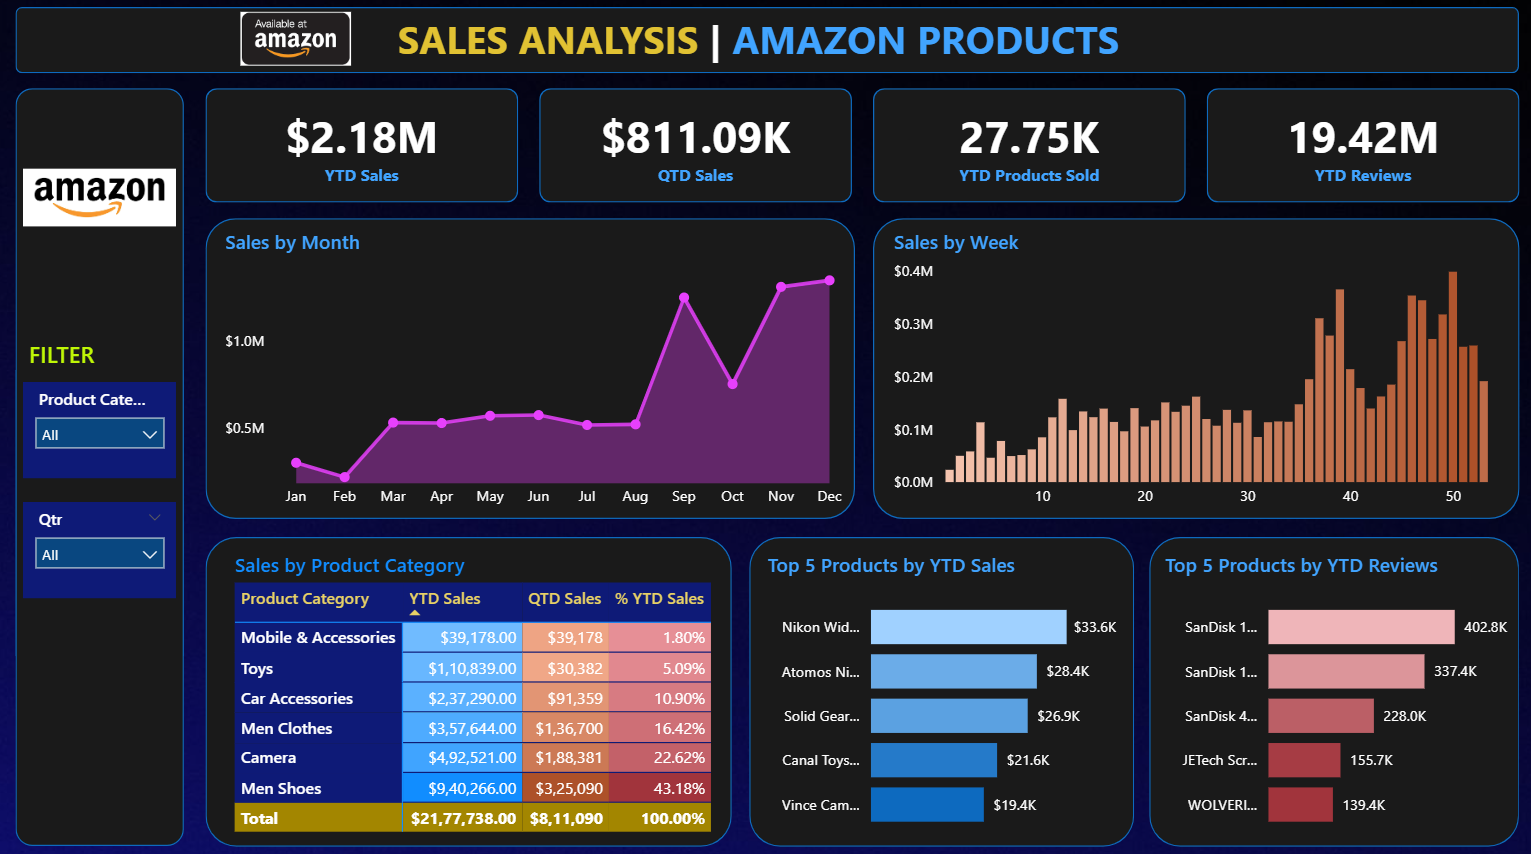

The page's visual inventory and layout, read from the dashboard file:
{"tool":"powerbi","page":{"name":"Dashboard","canvas":[1280,720],"ordinal":0},"visuals":[{"type":"shape","box":[15,8.8,1250,55],"z":0},{"type":"shape","box":[172.5,76.2,260,95],"z":0,"group":"g1"},{"type":"textbox","box":[327.5,8.8,787.5,55],"z":1000},{"type":"cardVisual","fields":{"Data":["Amazon_Data.YTD Sales"]},"box":[172.5,76.2,260,95],"z":1000,"group":"g1"},{"type":"shape","box":[15,76.2,140,630],"z":2000},{"type":"shape","box":[450,76.2,260,95],"z":2000,"group":"g1"},{"type":"group","id":"g1","title":"Group 1","box":[172.5,76.2,1092.5,95],"z":3000},{"type":"cardVisual","fields":{"Data":["Amazon_Data.QTD Sales"]},"box":[450,76.2,260,95],"z":3000,"group":"g1"},{"type":"shape","box":[727.5,76.2,260,95],"z":4000,"group":"g1"},{"type":"shape","box":[172.5,183.8,540,250],"z":4000},{"type":"shape","box":[1005,76.2,260,95],"z":5000,"group":"g1"},{"type":"areaChart","title":"Sales by Month","fields":{"Category":["Date Table.Month Name"],"Y":["Sum(Amazon_Data.Price(Dollar))"]},"box":[183.8,192.5,528.8,241.2],"z":5000},{"type":"cardVisual","fields":{"Data":["Amazon_Data.YTD Products Sold"]},"box":[727.5,76.2,260,95],"z":6000,"group":"g1"},{"type":"shape","box":[727.5,183.8,537.5,250],"z":6000},{"type":"cardVisual","fields":{"Data":["Amazon_Data.YTD Reviews"]},"box":[1005,76.2,260,95],"z":7000,"group":"g1"},{"type":"columnChart","title":"Sales by Week","fields":{"Category":["Date Table.Week Number"],"Y":["Sum(Amazon_Data.Price(Dollar))"]},"box":[740,192.5,525,241.2],"z":7000},{"type":"shape","box":[172.5,448.8,437.5,257.5],"z":8000},{"type":"pivotTable","title":"    Sales by Product Category","fields":{"Rows":["Amazon_Data.Product Category"],"Values":["Amazon_Data.YTD Sales1","Amazon_Data.QTD Sales","Amazon_Data.YTD Sales"]},"box":[183.8,460,428.8,246.2],"z":9000},{"type":"shape","box":[625,448.8,320,257.5],"z":9001},{"type":"shape","box":[957.5,448.8,307.5,257.5],"z":9002},{"type":"barChart","title":"Top 5 Products by YTD Sales","fields":{"Category":["Amazon_Data.Product Description"],"Y":["Amazon_Data.YTD Sales"]},"box":[635,460,300,246.2],"z":9003},{"type":"barChart","title":"Top 5 Products by YTD Reviews","fields":{"Category":["Amazon_Data.Product Description"],"Y":["Amazon_Data.YTD Reviews"]},"box":[965,460,300,246.2],"z":9004},{"type":"slicer","fields":{"Values":["Amazon_Data.Product Category"]},"box":[21.2,320,127.5,80],"z":9005},{"type":"slicer","fields":{"Values":["Date Table.Qtr"]},"box":[21.2,420,127.5,80],"z":9006},{"type":"image","box":[21.2,98.8,127.5,136.2],"z":9007},{"type":"textbox","box":[21.2,280,72.5,40],"z":9008},{"type":"image","box":[183.8,8.8,127.5,52.5],"z":9010}]}

Visuals, with their boxes in screenshot pixels (x1, y1, x2, y2), scaled from the page's 1280x720 canvas onto the 1531x854 screenshot:
shape: crop(18, 10, 1513, 76)
shape: crop(206, 90, 517, 203)
textbox: crop(392, 10, 1334, 76)
cardVisual - Amazon_Data.YTD Sales: crop(206, 90, 517, 203)
shape: crop(18, 90, 185, 838)
shape: crop(538, 90, 849, 203)
"Group 1" group: crop(206, 90, 1513, 203)
cardVisual - Amazon_Data.QTD Sales: crop(538, 90, 849, 203)
shape: crop(870, 90, 1181, 203)
shape: crop(206, 218, 852, 515)
shape: crop(1202, 90, 1513, 203)
"Sales by Month" areaChart: crop(220, 228, 852, 514)
cardVisual - Amazon_Data.YTD Products Sold: crop(870, 90, 1181, 203)
shape: crop(870, 218, 1513, 515)
cardVisual - Amazon_Data.YTD Reviews: crop(1202, 90, 1513, 203)
"Sales by Week" columnChart: crop(885, 228, 1513, 514)
shape: crop(206, 532, 730, 838)
"    Sales by Product Category" pivotTable: crop(220, 546, 733, 838)
shape: crop(748, 532, 1130, 838)
shape: crop(1145, 532, 1513, 838)
"Top 5 Products by YTD Sales" barChart: crop(760, 546, 1118, 838)
"Top 5 Products by YTD Reviews" barChart: crop(1154, 546, 1513, 838)
slicer - Amazon_Data.Product Category: crop(25, 380, 178, 474)
slicer - Date Table.Qtr: crop(25, 498, 178, 593)
image: crop(25, 117, 178, 279)
textbox: crop(25, 332, 112, 380)
image: crop(220, 10, 372, 73)
